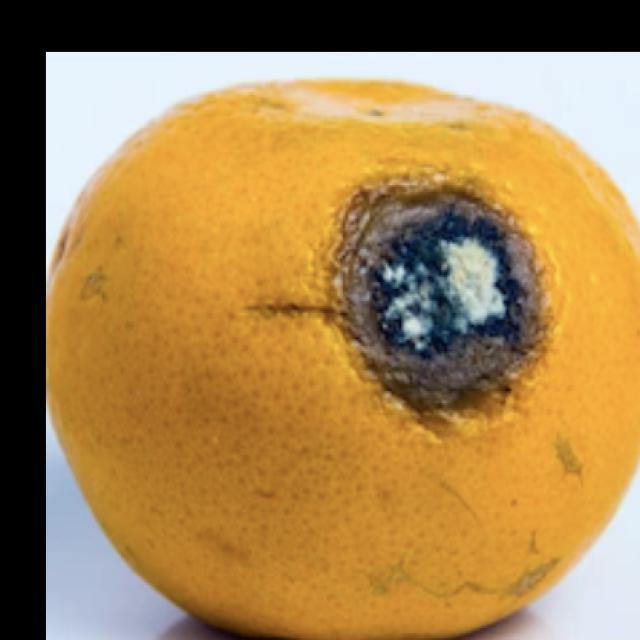sedikit-busuk: (47, 80, 639, 639), (335, 185, 544, 409)
